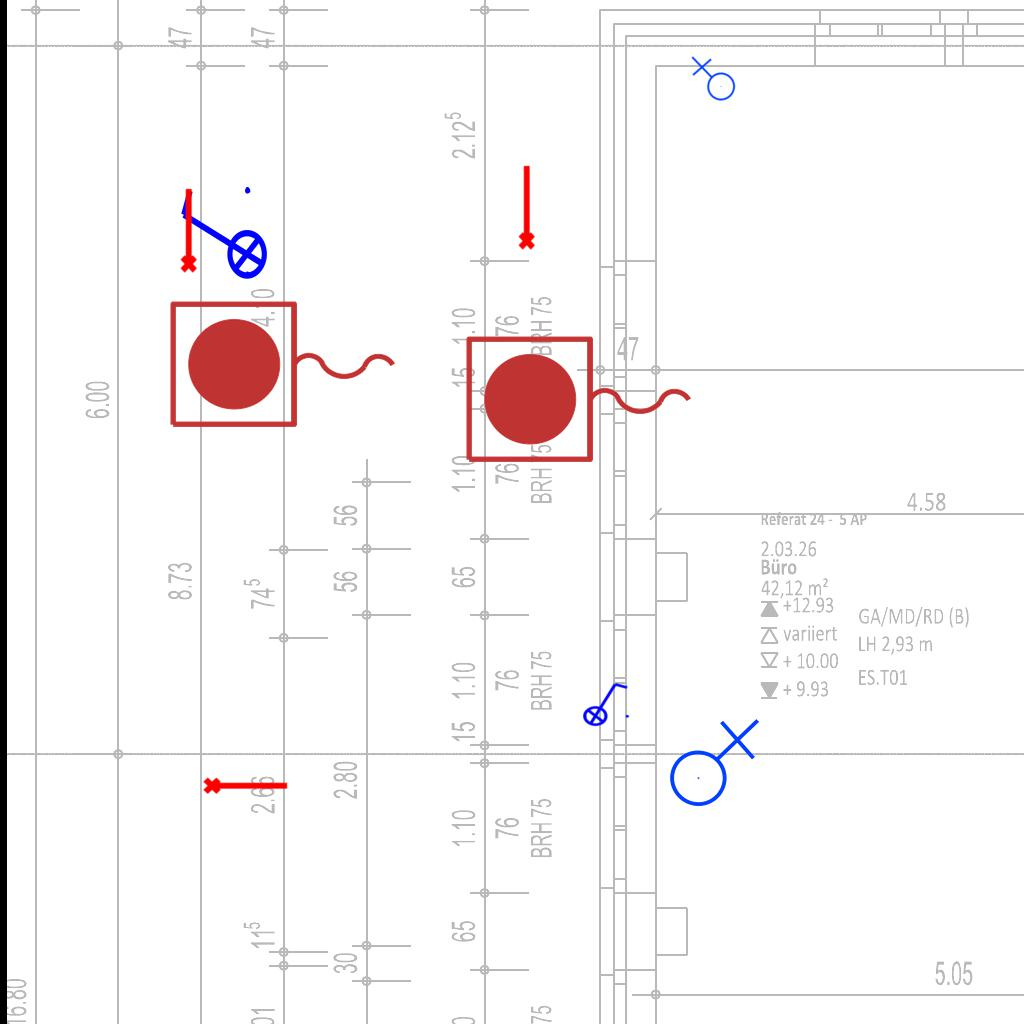ASR_Ansaugoeffnung: (514, 163, 537, 251), (202, 773, 290, 796), (176, 186, 199, 274)
Ausschalter_beleuchtet: (173, 181, 269, 293), (576, 679, 632, 727)
Elektroanschluss_allgemein_230V_Geraeteanschlussdose_230V: (661, 714, 760, 808), (689, 56, 736, 105)
Zugtaster: (162, 294, 406, 438), (458, 329, 702, 473)
